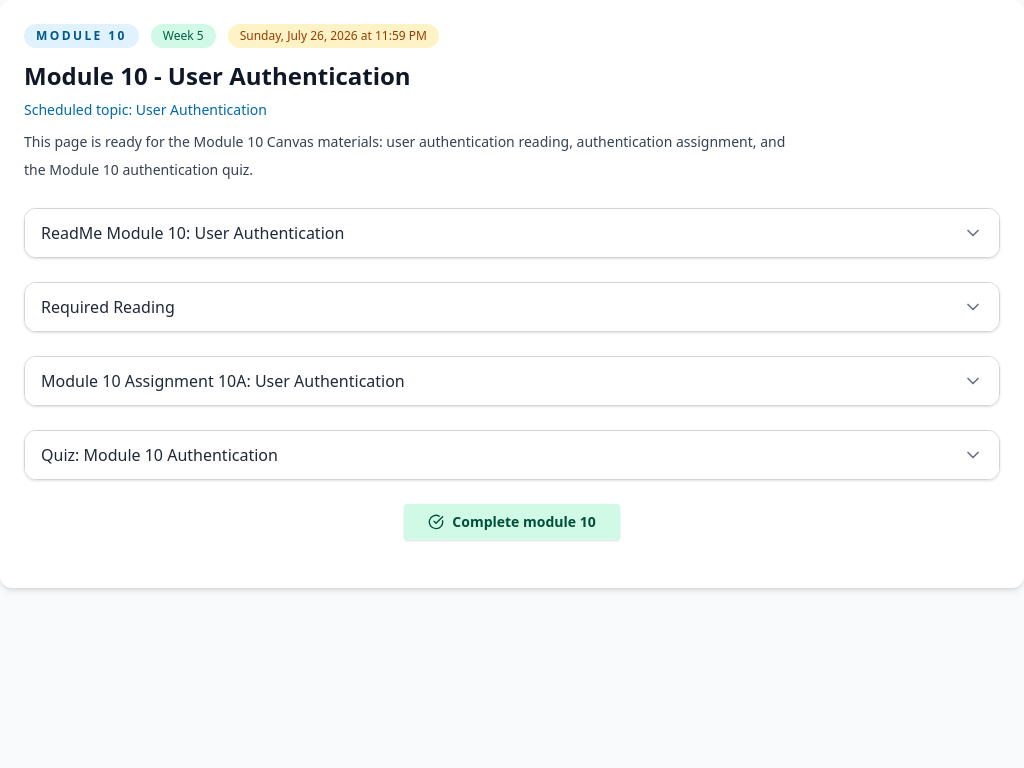
it: <AssignmentMod10 /> › renders the Module 10 Authentication quiz instead of a placeholder
Click the button "Quiz: Module 10 Authentication": {"x": 159, "y": 455} [25,431,999,479]
(page scrolled)
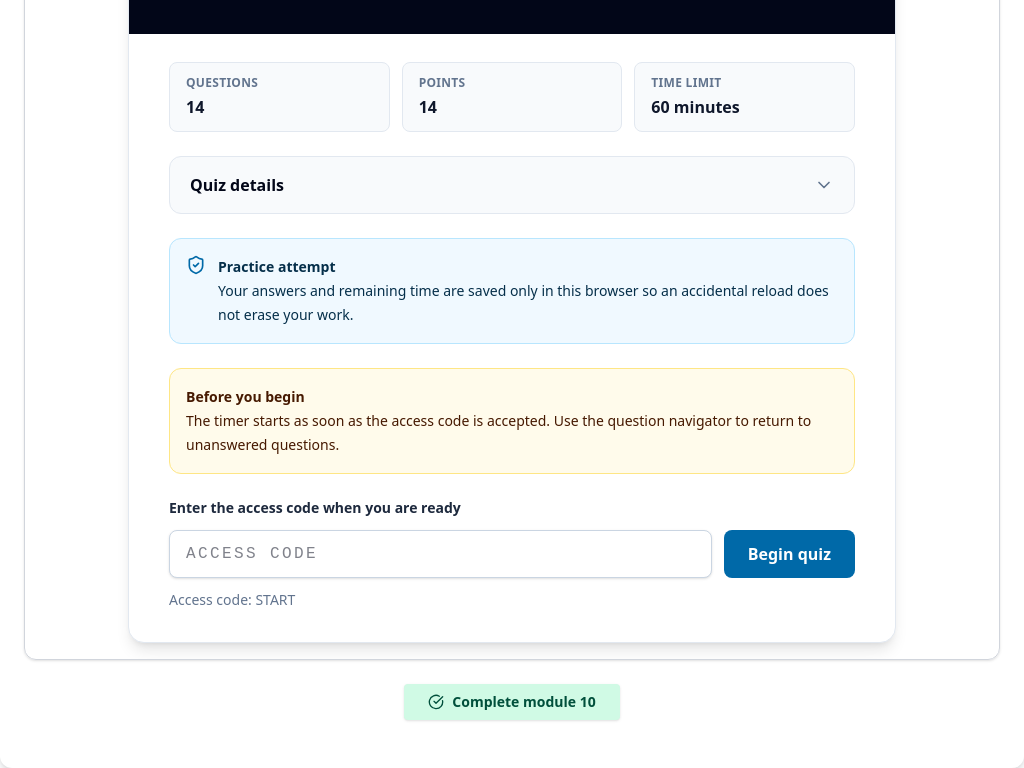
Check: the button "Begin quiz" is shown, box [724,530,855,578]
